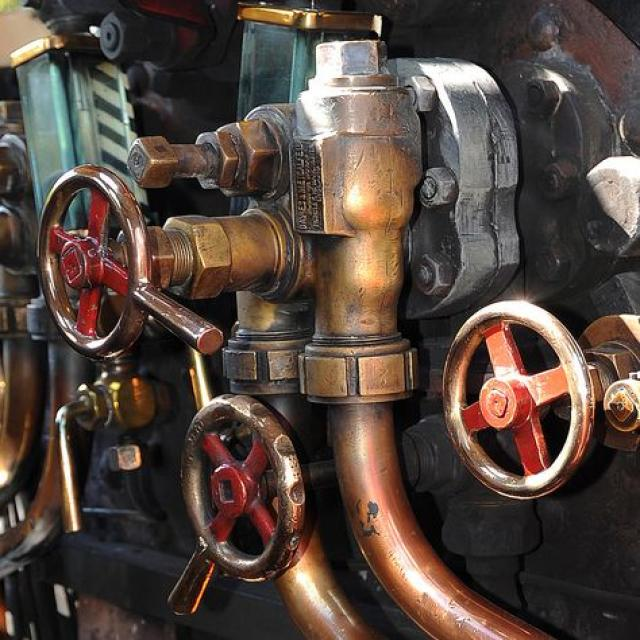Wheel Handle Valve Threaded: (37, 84, 433, 400), (186, 392, 477, 582), (444, 301, 640, 501)
